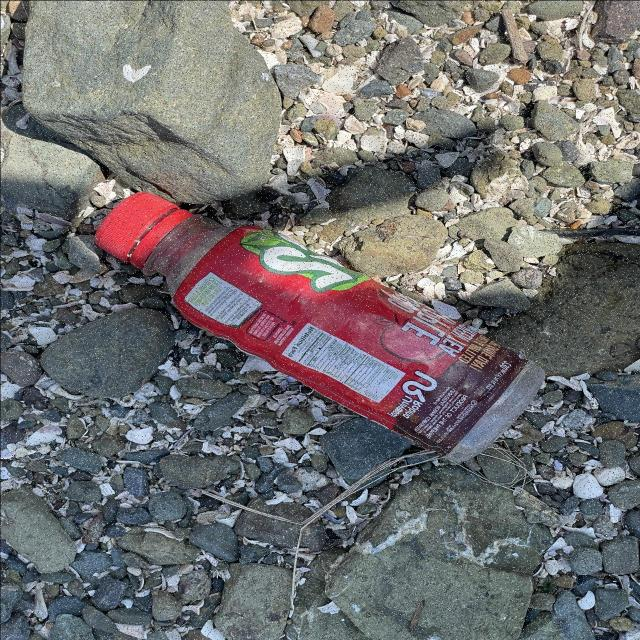plastic_waste: (93, 192, 548, 465)
